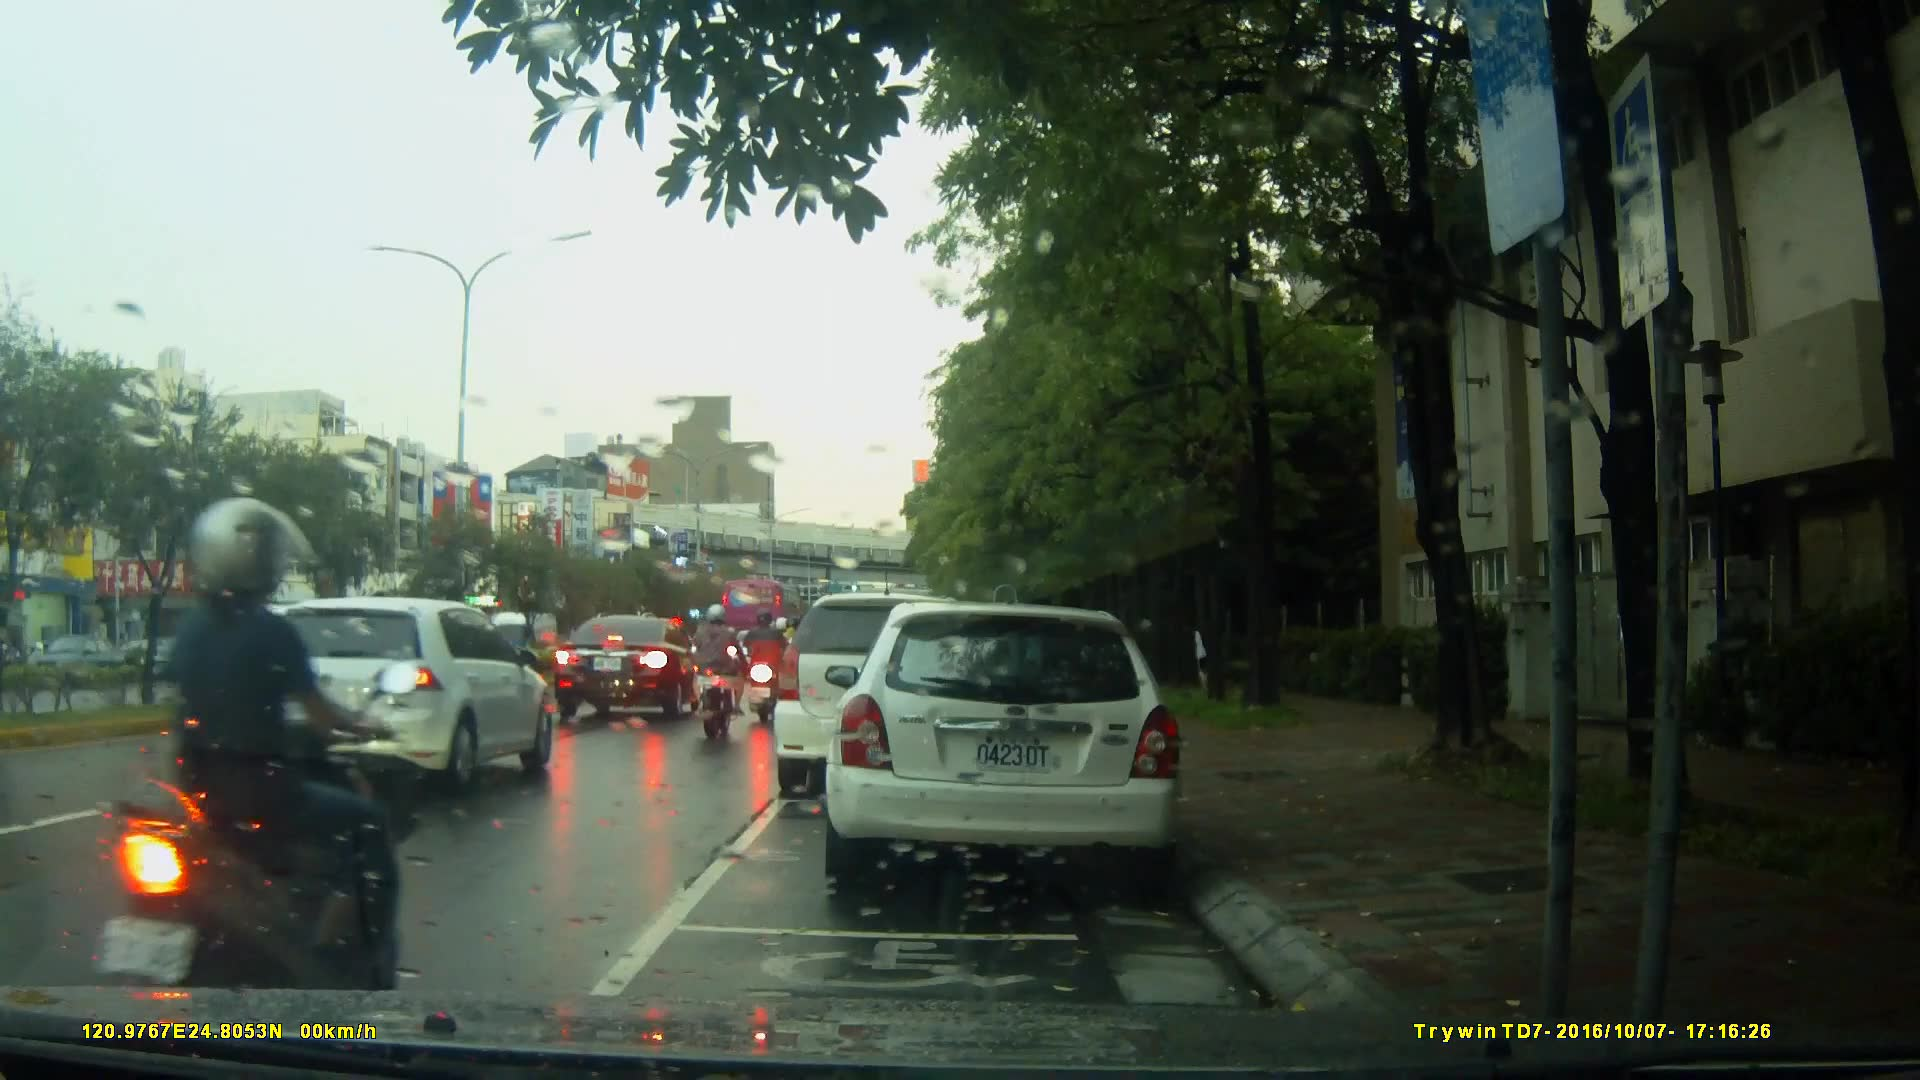rider: (94, 498, 405, 1027), (690, 603, 747, 747), (743, 605, 791, 727)
vehicle: (835, 594, 1194, 898), (233, 592, 553, 799), (776, 590, 1026, 784), (548, 613, 711, 725), (720, 578, 805, 648)
